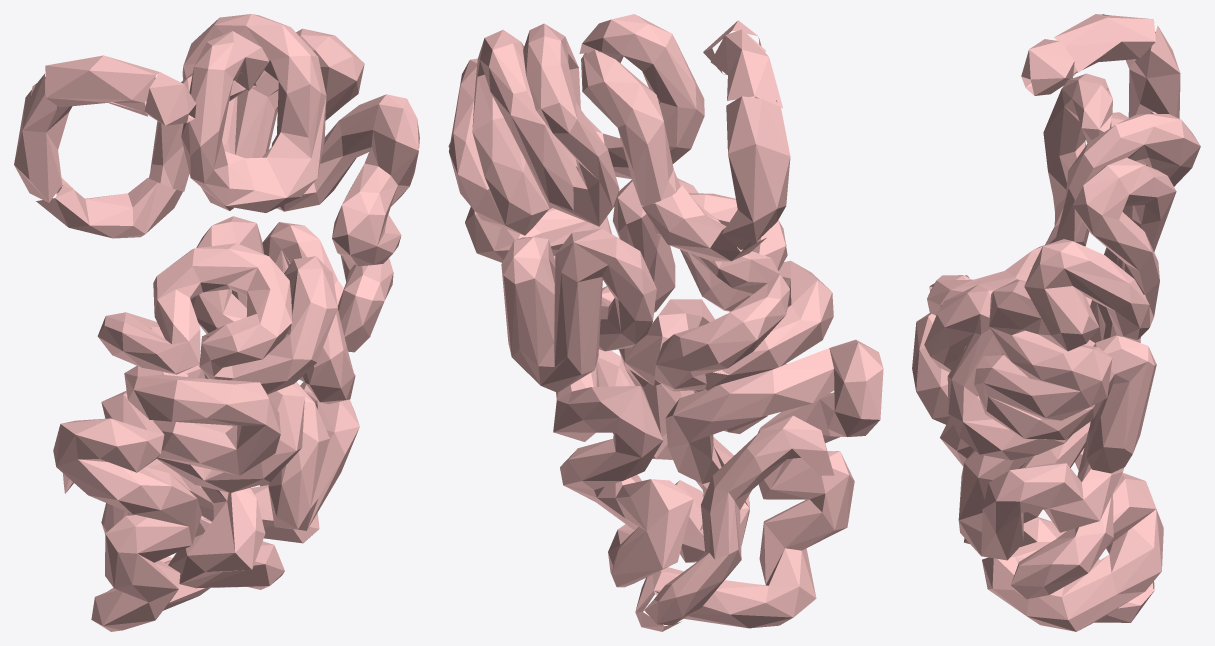
File: VH_M_Small_Intestine_0.1.glb
3 renders of one model, left to right at view 1: azimuth 30°, elevation 25°; view 2: azimuth 150°, elevation 25°; view 3: azimuth 270°, elevation 25°, orthographic. The views are drawn at different scales.
Visible parts, largest first — view 1: VH_M_jejunum, VH_M_ileum, VH_M_duodenum_horizonal, VH_M_duodenum_superior, VH_M_duodenum_descending, VH_M_duodenum_ascending, VH_M_duodenal_ampulla, VH_M_ileum_terminal; view 2: VH_M_jejunum, VH_M_ileum, VH_M_ileum_terminal, VH_M_duodenum_descending, VH_M_duodenum_ascending, VH_M_duodenum_horizonal, VH_M_duodenum_superior; view 3: VH_M_jejunum, VH_M_ileum, VH_M_duodenum_superior, VH_M_duodenum_descending, VH_M_duodenal_ampulla.
Part boxes in pixels (left/top/right/bottom): VH_M_jejunum: left=97, top=14, right=419, bottom=404; VH_M_ileum: left=53, top=366, right=359, bottom=631; VH_M_duodenum_horizonal: left=36, top=178, right=182, bottom=238; VH_M_duodenum_superior: left=45, top=55, right=159, bottom=116; VH_M_duodenum_descending: left=14, top=74, right=73, bottom=202; VH_M_duodenum_ascending: left=149, top=73, right=256, bottom=191; VH_M_duodenal_ampulla: left=144, top=72, right=196, bottom=125; VH_M_ileum_terminal: left=63, top=473, right=134, bottom=534; VH_M_jejunum: left=448, top=14, right=790, bottom=392; VH_M_ileum: left=553, top=260, right=883, bottom=631; VH_M_ileum_terminal: left=644, top=415, right=834, bottom=625; VH_M_duodenum_descending: left=721, top=96, right=790, bottom=249; VH_M_duodenum_ascending: left=581, top=50, right=680, bottom=206; VH_M_duodenum_horizonal: left=642, top=185, right=766, bottom=261; VH_M_duodenum_superior: left=710, top=29, right=782, bottom=108; VH_M_jejunum: left=924, top=73, right=1200, bottom=473; VH_M_ileum: left=912, top=313, right=1163, bottom=631; VH_M_duodenum_superior: left=1054, top=14, right=1155, bottom=74; VH_M_duodenum_descending: left=1125, top=25, right=1180, bottom=118; VH_M_duodenal_ampulla: left=1021, top=39, right=1075, bottom=95.
Size of the model in its own units: 0.1895 by 0.2664 by 0.1237.
